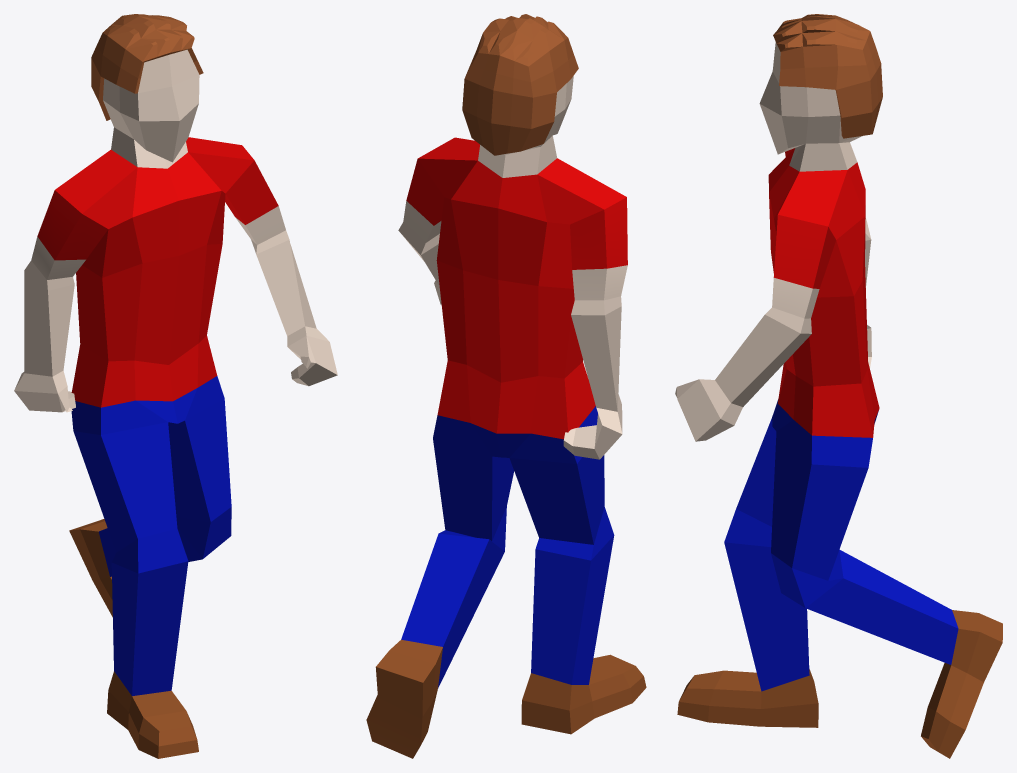
The model's file is Human_walking_30.fbx.
3 renders of one model, left to right at view 1: azimuth 30°, elevation 25°; view 2: azimuth 150°, elevation 25°; view 3: azimuth 270°, elevation 25°, orthographic. The views are drawn at different scales.
Parts seen in each view (by area): view 1: Person; view 2: Person; view 3: Person.
Part boxes in pixels (x1,y1,x2,y2): Person: (14, 14, 337, 758); Person: (366, 14, 646, 758); Person: (675, 14, 1002, 758).
Bounding box in the file's own units: 0.1193 × 0.3127 × 0.1307.
